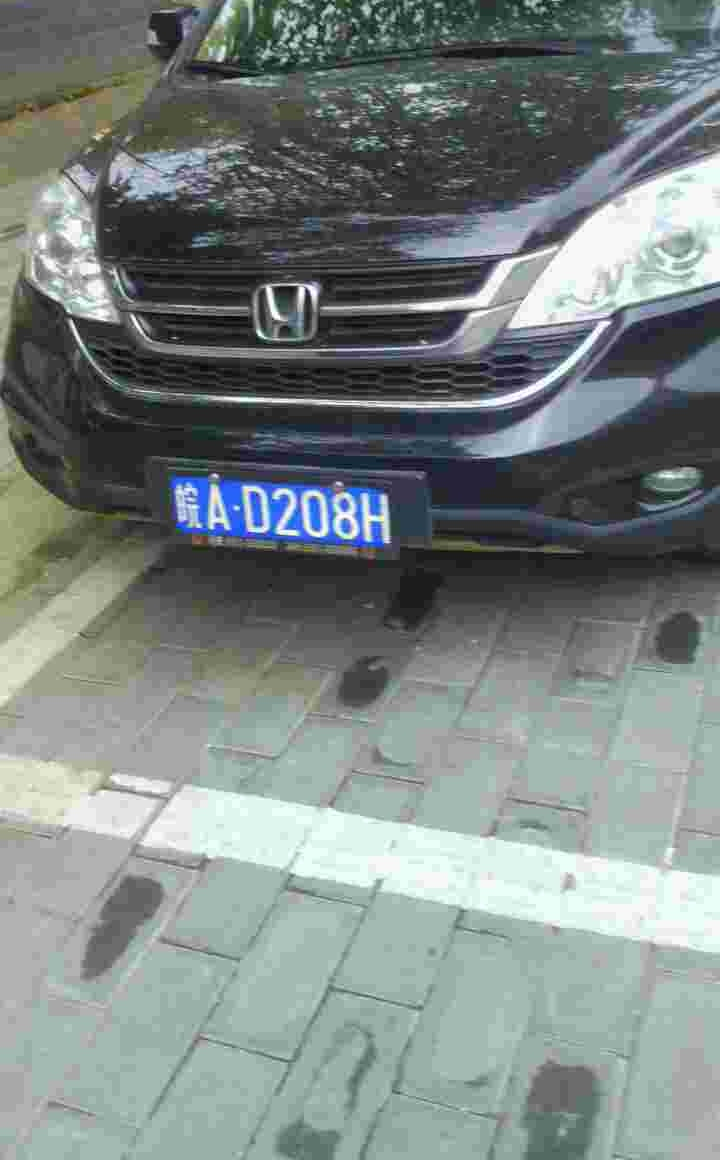car: (157, 468, 403, 562)
